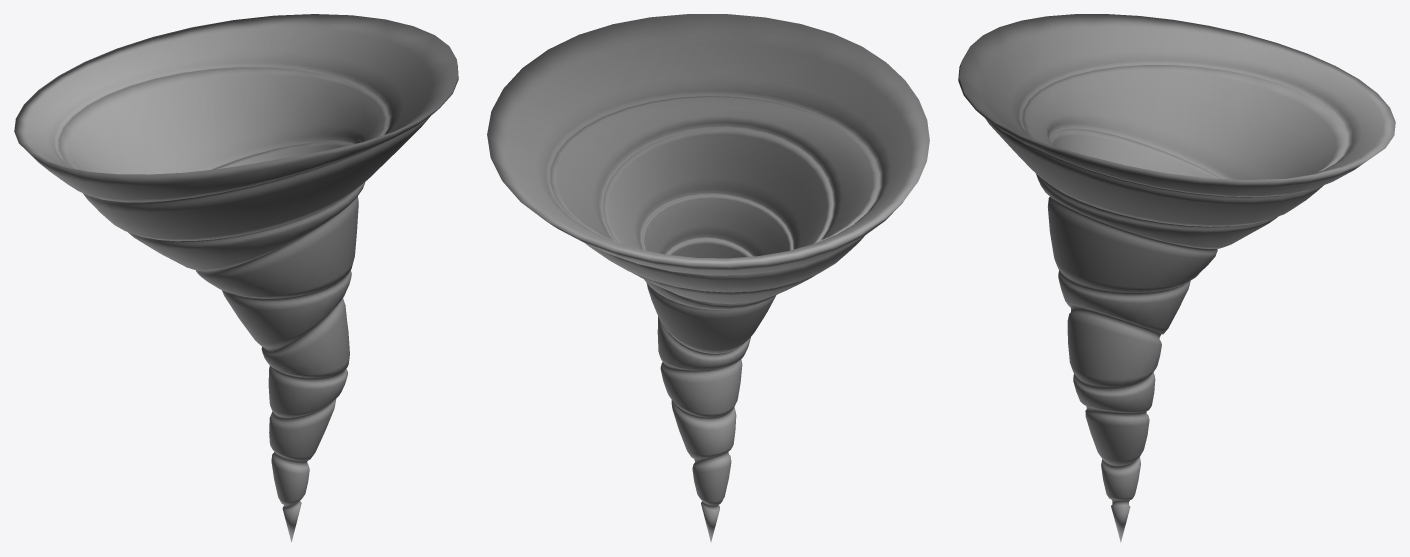
File: Tornado.FBX
3 renders of one model, left to right at view 1: azimuth 30°, elevation 25°; view 2: azimuth 150°, elevation 25°; view 3: azimuth 270°, elevation 25°, orthographic.
Visible parts, largest first — view 1: Tornado; view 2: Tornado; view 3: Tornado.
Boxes of the visible parts, x1,y1,x2,y2 form: Tornado: (14, 14, 458, 542); Tornado: (487, 14, 929, 542); Tornado: (958, 14, 1395, 542).
Size of the model in its own units: 880 by 1007 by 864.
Materials: 1 (1 with a texture image).
